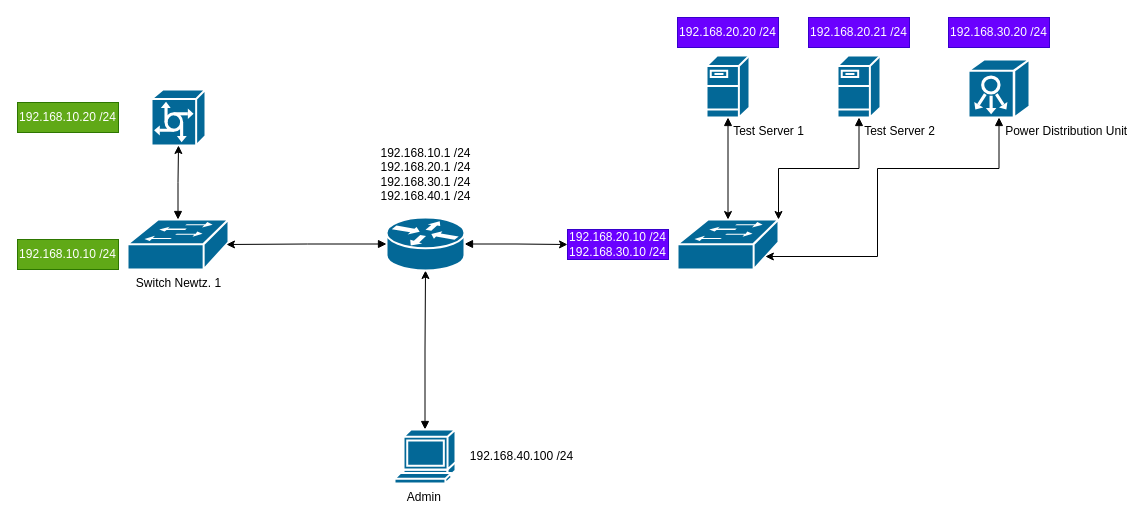
The diagram is 1144 pixels wide and 522 high, and some of its shapes have lost their labels. Here are the shapes that lost their labels. From the top down, the centre of each, then its label:
point (178, 117): Infrastruktur Server
point (425, 243): Router
point (727, 244): Switch Netz. 2
